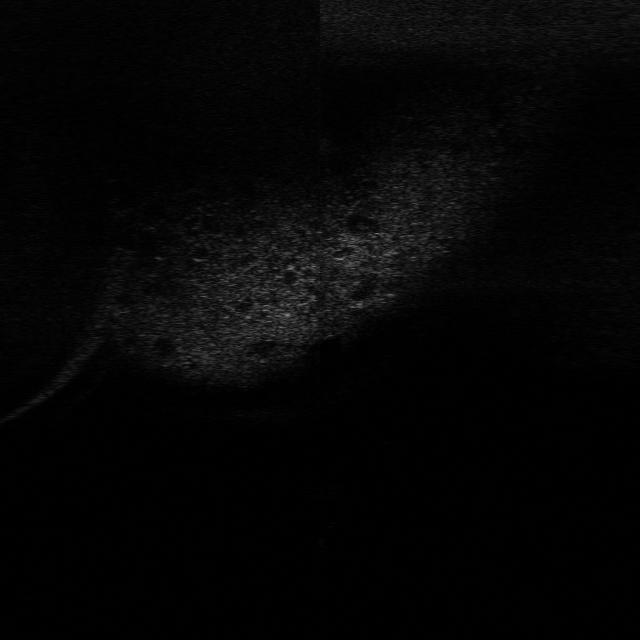cube: (289, 469, 347, 503)
